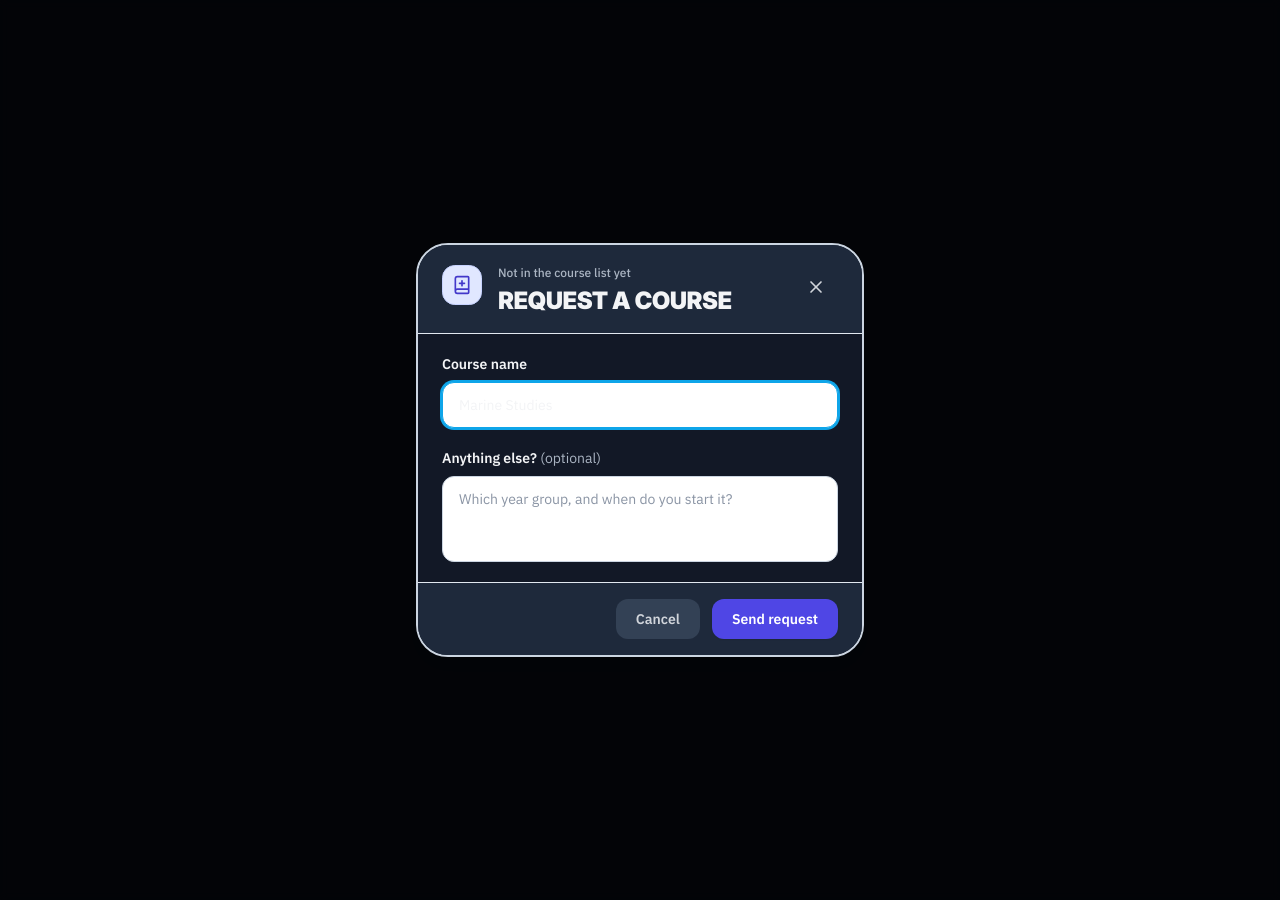
Scenario: CourseRequestModal › says so plainly when the requester had already asked
What coordinates should you click on to do the following:
click the button "Send request"
I would click on:
 (775, 619)
Its box is [712,599,838,639].
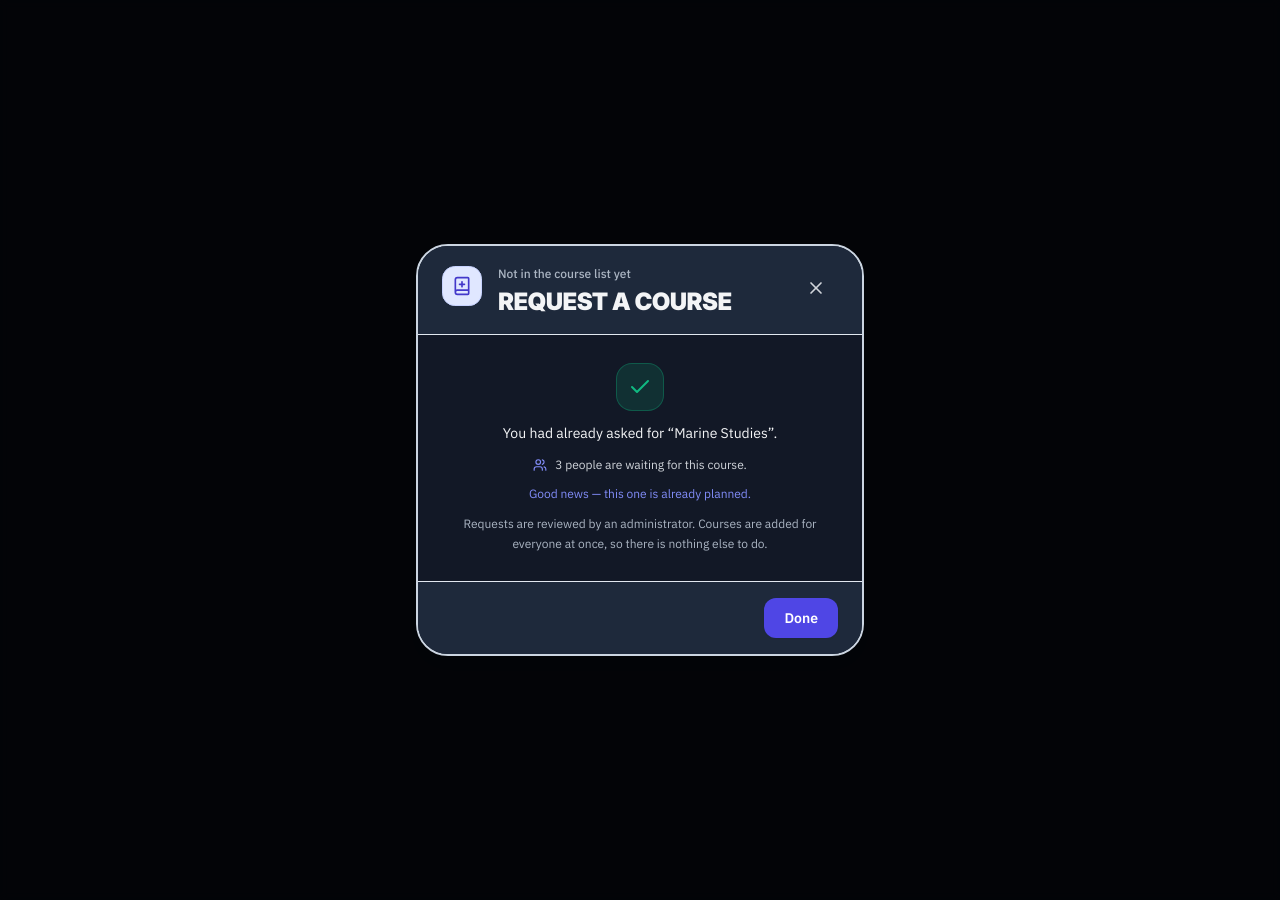
Check: the text "You had already asked for “Marine Studies”." is shown, box [503,423,777,443]
Check: the text "Good news — this one is already planned." is shown, box [529,486,751,502]
